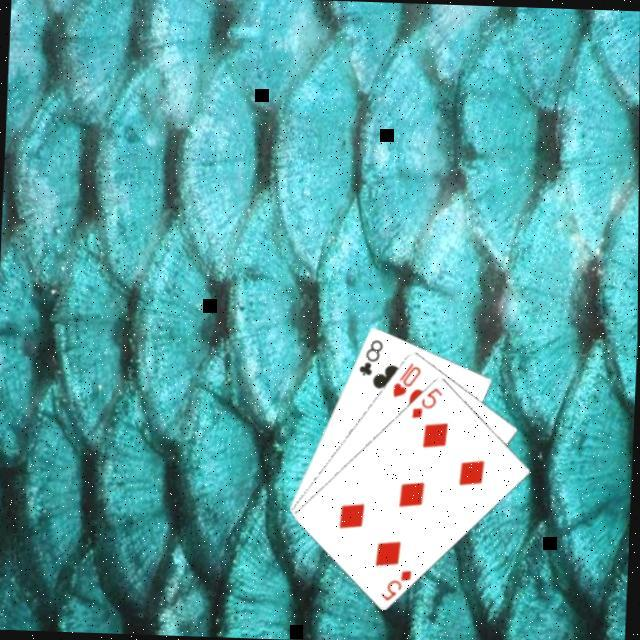10H: (389, 358, 424, 399)
5D: (377, 564, 414, 603), (408, 382, 444, 421)
8C: (355, 334, 385, 378)
